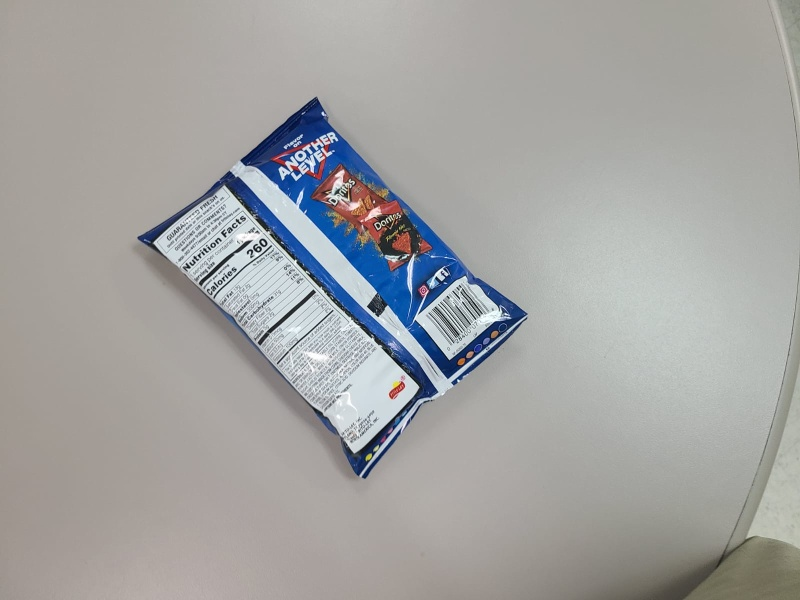doritos: (139, 95, 531, 480)
